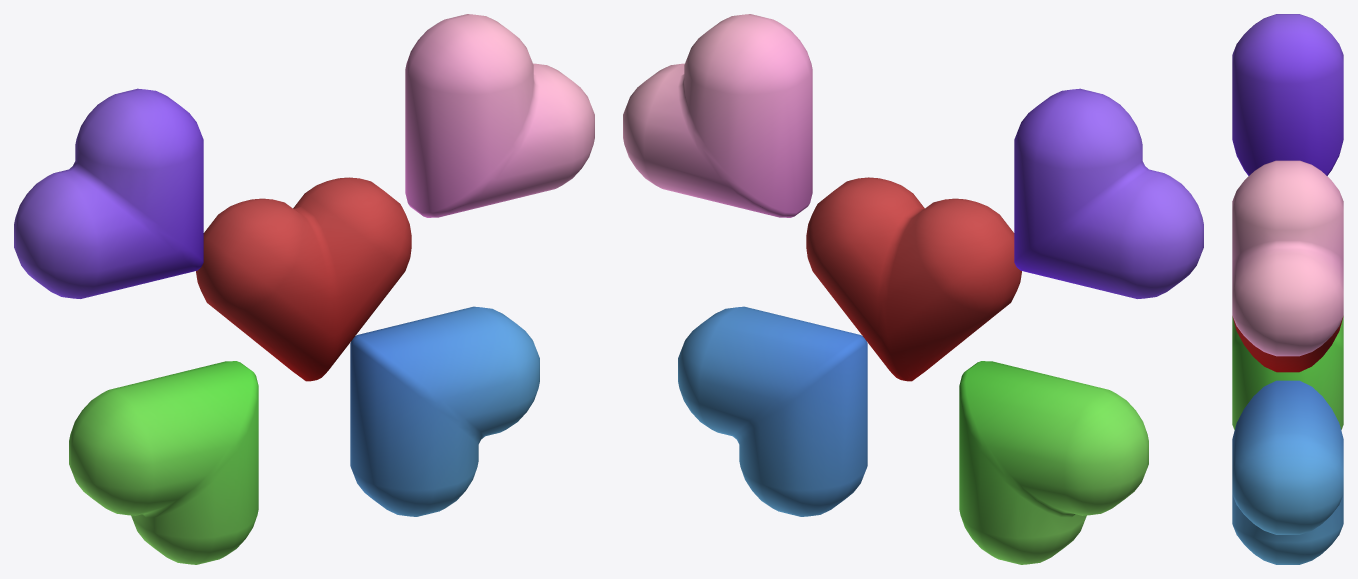
File: hearts-by-minipoly-dACfv60ILZ.glb
The picture shows the model from 3 angles, left to right: view 1: azimuth 30°, elevation 25°; view 2: azimuth 150°, elevation 25°; view 3: azimuth 270°, elevation 25°; orthographic projection. The views are drawn at different scales.
Parts seen in each view (by area): view 1: Cube.003, Cube.002, Cube.001, Cube.004, Heat; view 2: Cube.003, Cube.002, Cube.001, Cube.004, Heat; view 3: Cube.001, Cube.003, Cube.002, Cube.004, Heat.
Part boxes in pixels (x1,y1,x2,y2): Cube.003: (350,306,539,516); Cube.002: (14,88,203,298); Cube.001: (405,14,594,217); Cube.004: (69,361,258,564); Heat: (196,177,411,381); Cube.003: (678,306,867,516); Cube.002: (1014,88,1203,298); Cube.001: (623,14,812,217); Cube.004: (959,361,1148,564); Heat: (806,177,1021,381); Cube.001: (1232,160,1343,356); Cube.003: (1232,380,1343,564); Cube.002: (1232,14,1343,175); Cube.004: (1232,316,1343,429); Heat: (1232,316,1343,372).
Size of the model in its own units: 10.22 by 8.32 by 2.
1 material, 1 textured.
